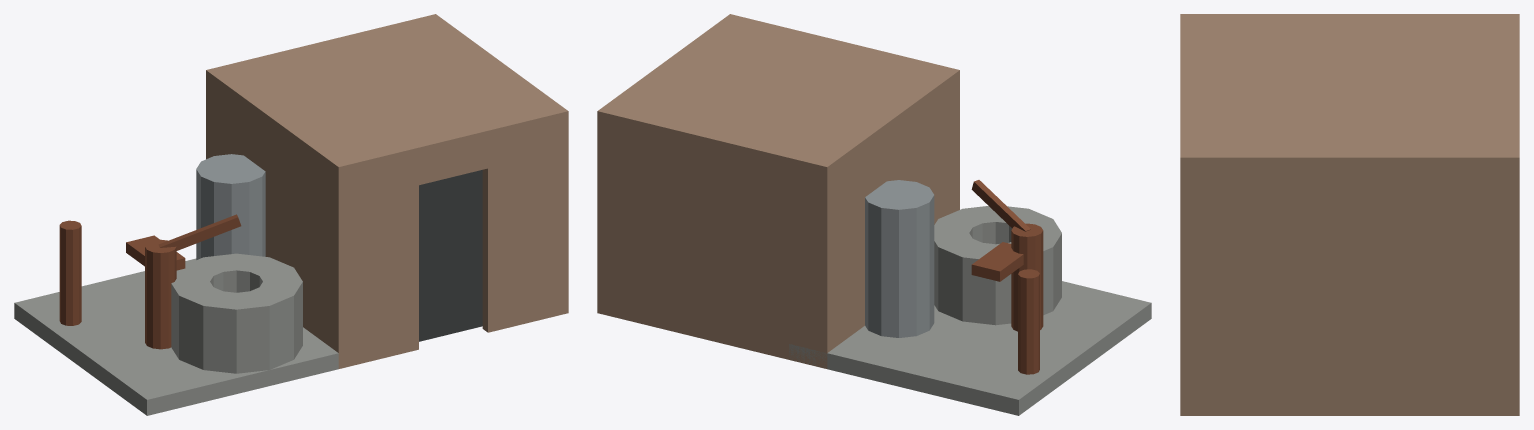
Rendered from FRM-006_FARM_WATER_PLAYABLE_BLOCKOUT.fbx.
The picture shows the model from 3 angles, left to right: view 1: azimuth 30°, elevation 25°; view 2: azimuth 150°, elevation 25°; view 3: azimuth 270°, elevation 25°; orthographic projection. The views are drawn at different scales.
Parts seen in each view (by area): view 1: FRM006_BARRICADE_NonEnterablePumpShelter, FRM006_ExteriorPumpAndWaterHardware, FRM006_PumpHandle_UP; view 2: FRM006_BARRICADE_NonEnterablePumpShelter, FRM006_ExteriorPumpAndWaterHardware, FRM006_PumpHandle_UP; view 3: FRM006_BARRICADE_NonEnterablePumpShelter.
Boxes of the visible parts, x1,y1,x2,y2 form: FRM006_BARRICADE_NonEnterablePumpShelter: [206, 14, 568, 368]; FRM006_ExteriorPumpAndWaterHardware: [14, 154, 338, 415]; FRM006_PumpHandle_UP: [158, 214, 241, 250]; FRM006_BARRICADE_NonEnterablePumpShelter: [597, 14, 959, 368]; FRM006_ExteriorPumpAndWaterHardware: [789, 180, 1151, 415]; FRM006_PumpHandle_UP: [971, 180, 1030, 231]; FRM006_BARRICADE_NonEnterablePumpShelter: [1180, 14, 1519, 415].
Size of the model in its own units: 5.5 by 2.52 by 3.
